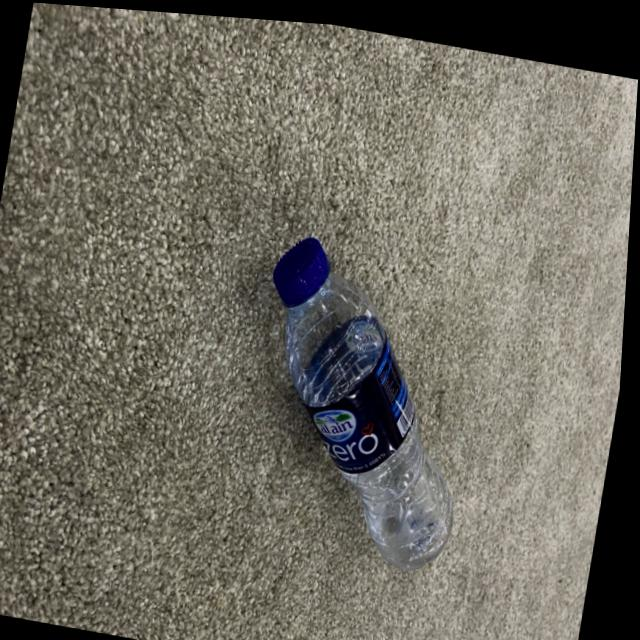anorganik: (235, 219, 501, 573)
